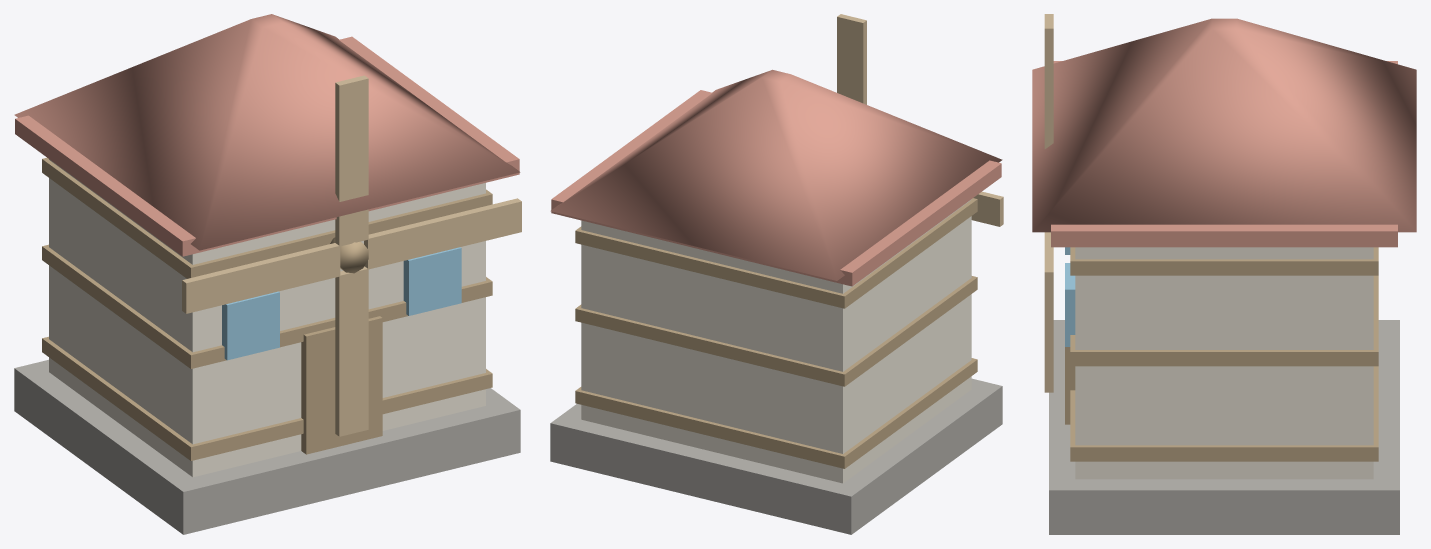
File: windmill.fbx
3 views of the same model, side by side, from view 1: azimuth 30°, elevation 25°; view 2: azimuth 150°, elevation 25°; view 3: azimuth 270°, elevation 25° (orthographic). The views are drawn at different scales.
Visible parts, largest first — view 1: EN_windmill; view 2: EN_windmill; view 3: EN_windmill.
Boxes of the visible parts, x1,y1,x2,y2 form: EN_windmill: (14,14,521,534); EN_windmill: (550,14,1003,534); EN_windmill: (1032,14,1416,534).
Size of the model in its own units: 230 by 270 by 219.
